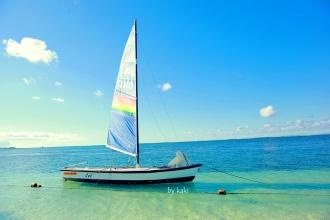fanchuan: (61, 18, 212, 183)
